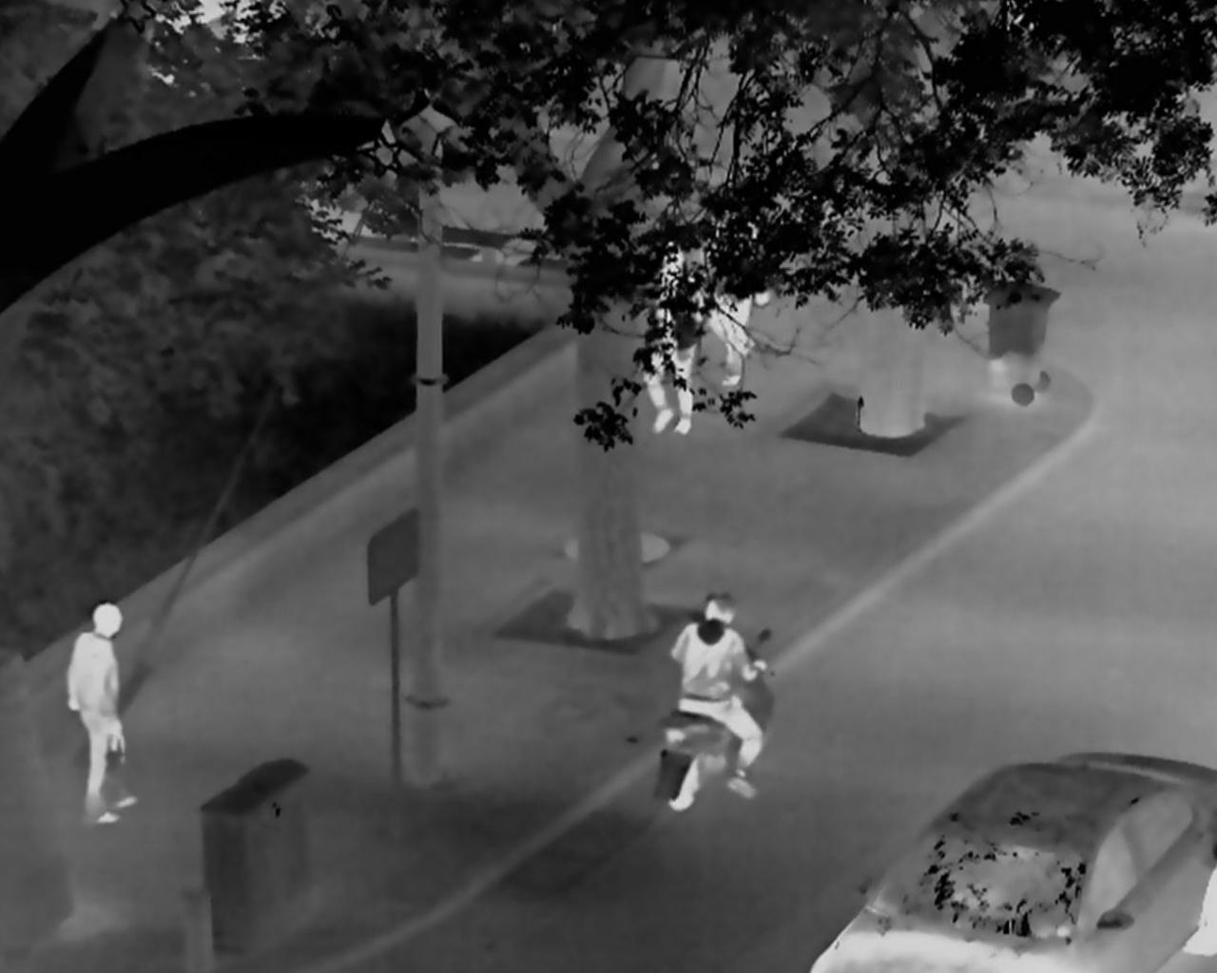person: (670, 591, 769, 800), (66, 600, 139, 824), (706, 215, 771, 389), (644, 252, 704, 436)
